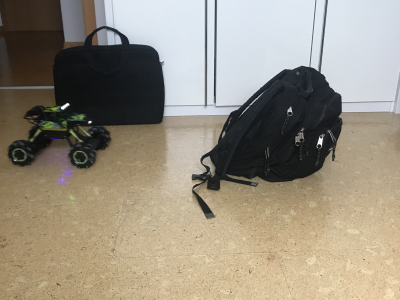remote control car: (6, 100, 113, 171)
